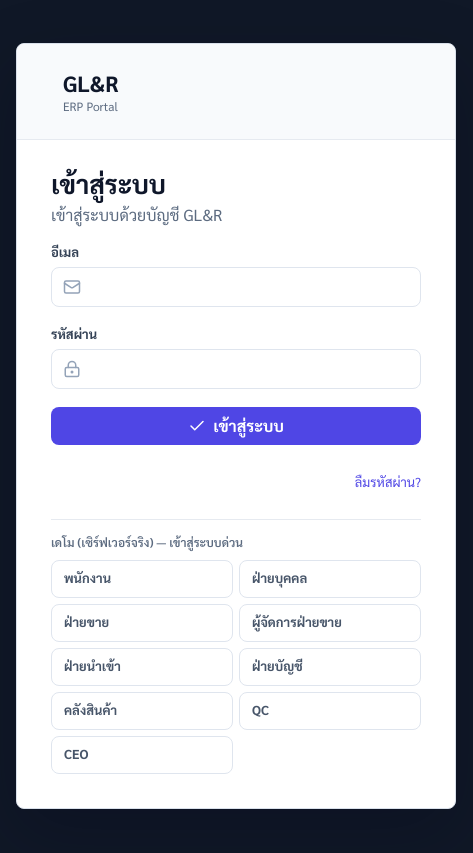
Test case: App login errors (UX-06) › shows a distinct generic Thai message when the failure has no HTTP status
This screenshot has width=473, height=853.
Expected: the button "เข้าสู่ระบบ" is shown, [51,407,421,445]
In the field labelled "อีเมล": (236, 287) [51,267,421,307], type "someone@glr.co"
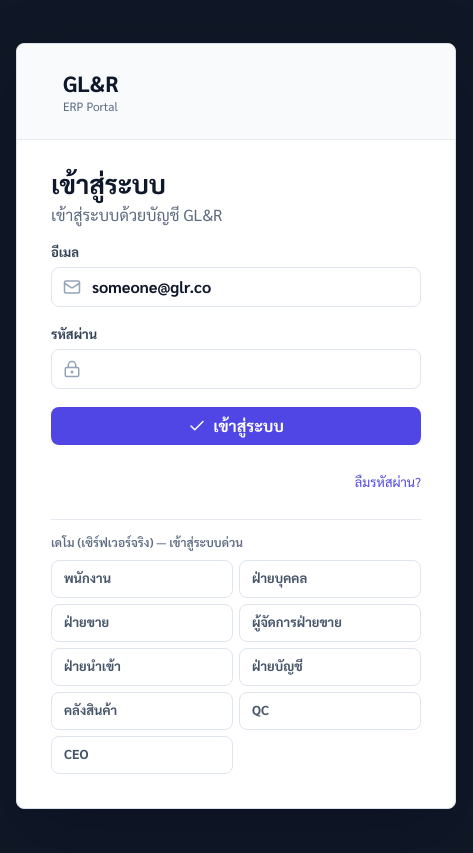
In the password field labelled "รหัสผ่าน": (236, 369) [51,349,421,389], type "wrong-password"
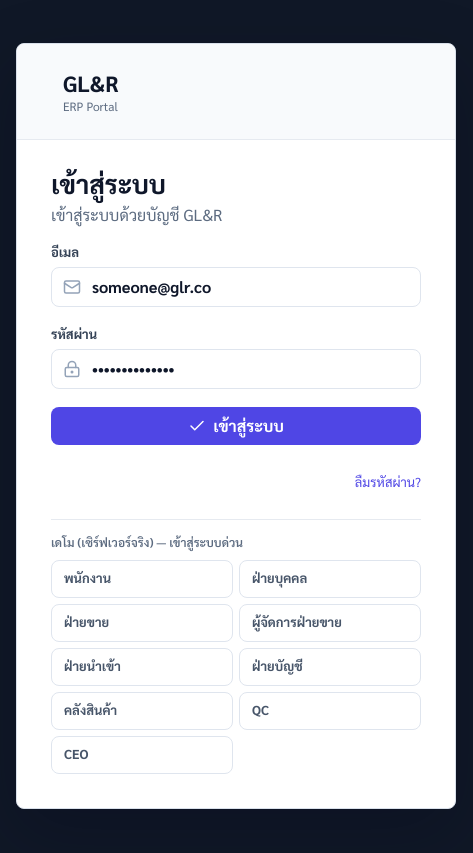
Click the button "เข้าสู่ระบบ": (236, 426) [51,407,421,445]
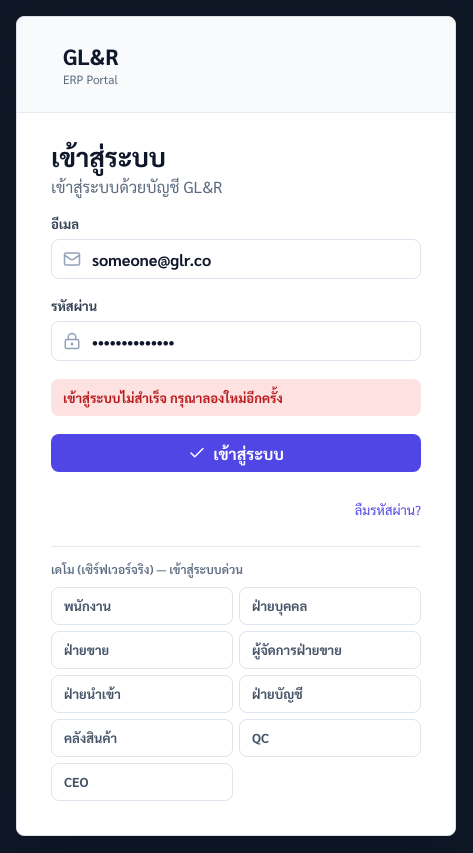
Now the text "เข้าสู่ระบบไม่สำเร็จ กรุณาลองใหม่อีกครั้ง" is shown, box [51,379,421,416]
